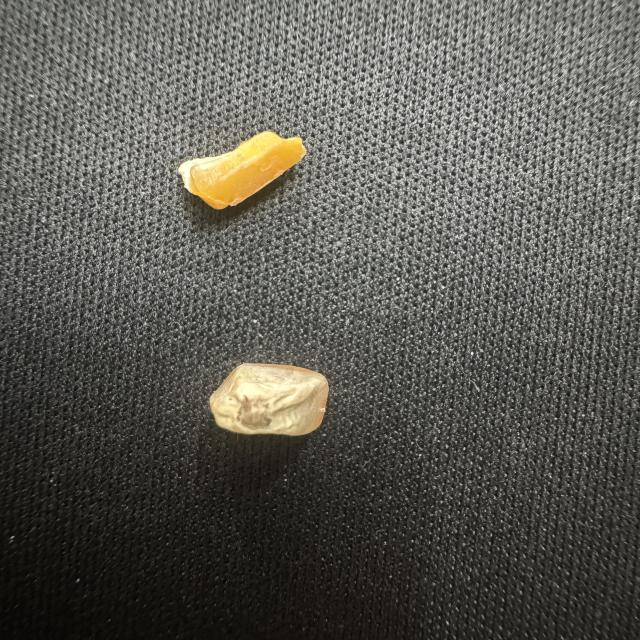Bad-Seed: (161, 119, 328, 224), (193, 338, 341, 450)
